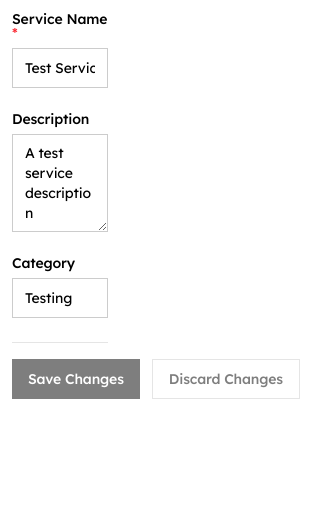
Test: ServiceMetadataForm › Error Handling › error message has accessible alert role
The width and height of the screenshot is (332, 510).
Replace the text in the field labelled "Service Name *" with "New Name" at (60, 68), box [12,48,108,88]
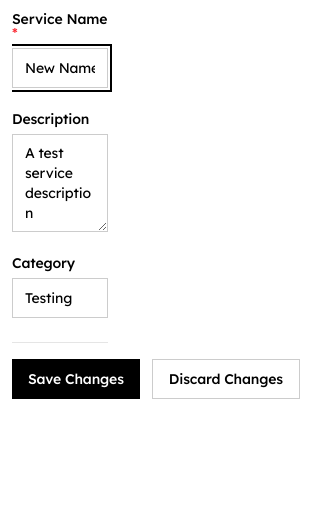
Click the button "Save Changes" at (76, 379), box [12,359,140,399]
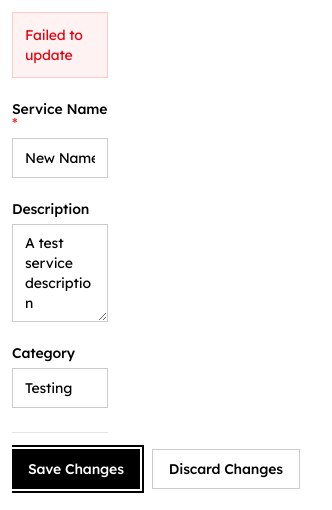
expect the message "Failed to update" is shown: met, box [12,12,108,78]
